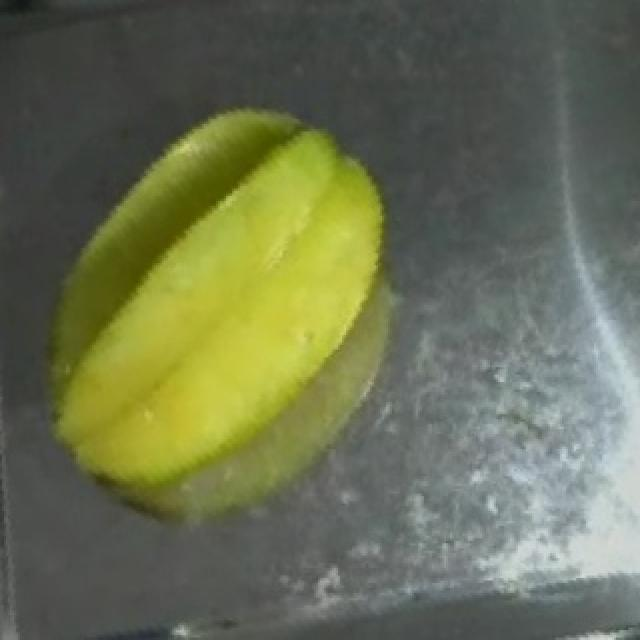fruit: (52, 79, 422, 474)
